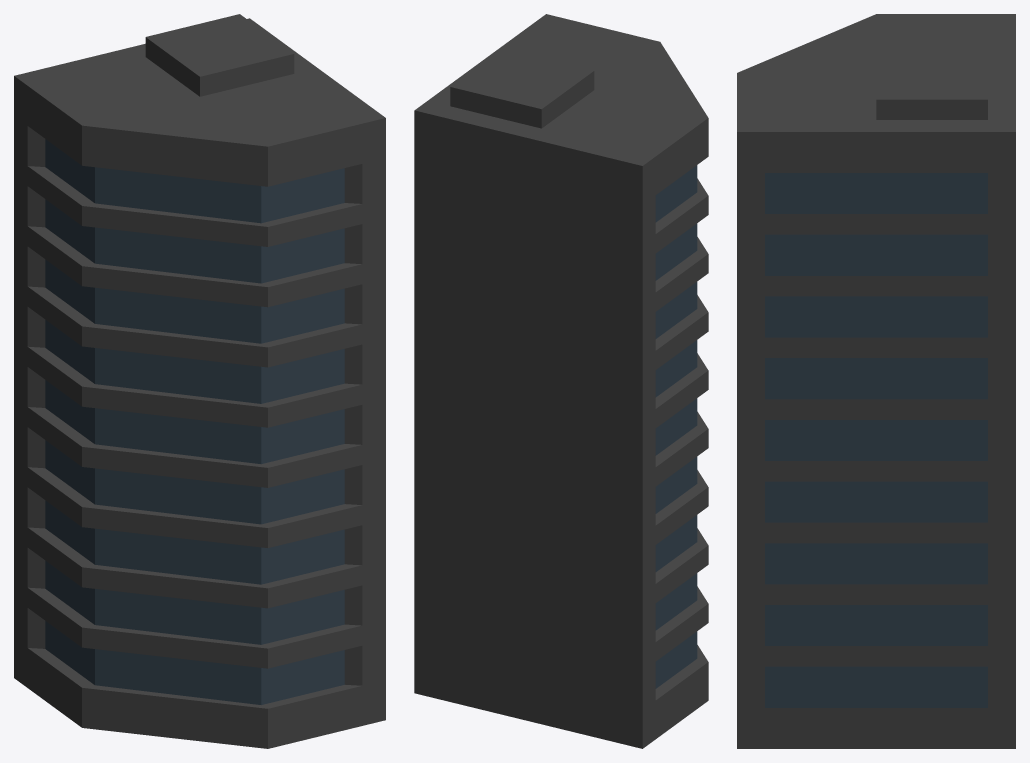
Rendered from Building4.fbx.
3 renders of one model, left to right at view 1: azimuth 30°, elevation 25°; view 2: azimuth 150°, elevation 25°; view 3: azimuth 270°, elevation 25°, orthographic. The views are drawn at different scales.
Parts seen in each view (by area): view 1: pCube1; view 2: pCube1; view 3: pCube1.
Boxes of the visible parts, x1,y1,x2,y2 form: pCube1: [14, 14, 385, 748]; pCube1: [414, 14, 708, 748]; pCube1: [737, 14, 1015, 748].
Bounding box in the file's own units: 10.64 × 26.85 × 10.64.
